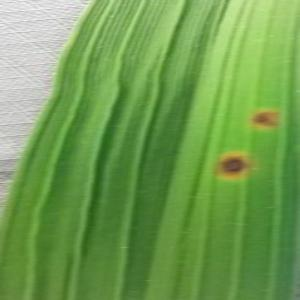Brown_Spot: (206, 142, 271, 188), (245, 102, 288, 139)
